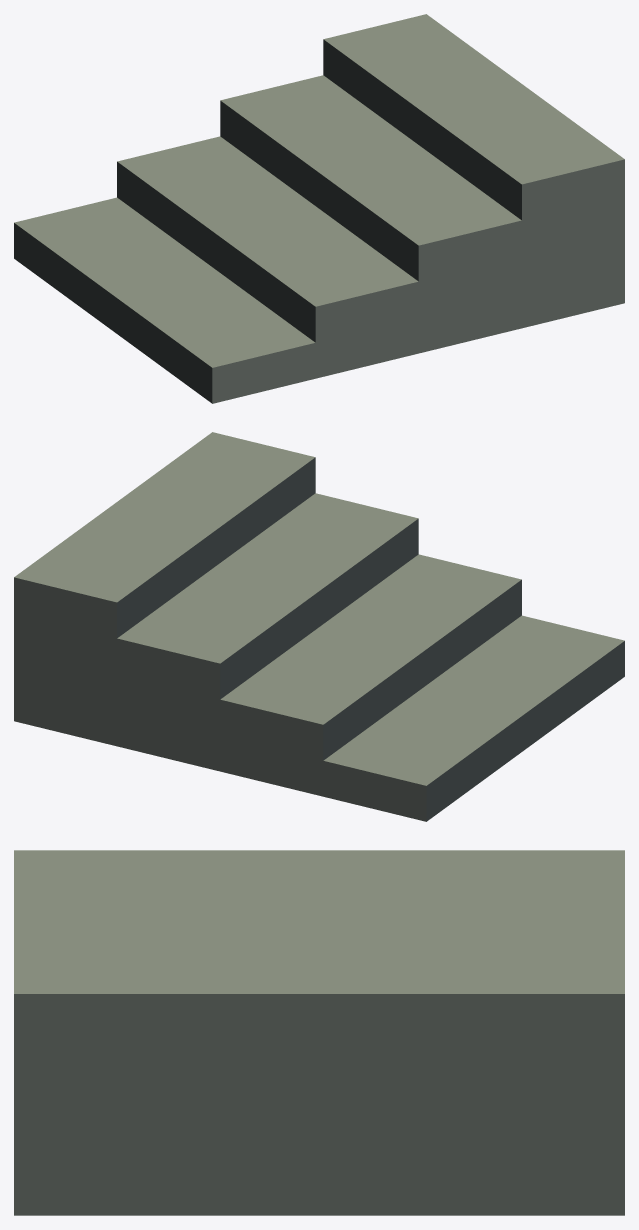
File: TW_STEPS_WIDE4_A_LOD0.glb
3 views of the same model, one above another, from view 1: azimuth 30°, elevation 25°; view 2: azimuth 150°, elevation 25°; view 3: azimuth 270°, elevation 25° (orthographic). The views are drawn at different scales.
Visible parts, largest first — view 1: TW_STEPS_WIDE4_A_LOD0; view 2: TW_STEPS_WIDE4_A_LOD0; view 3: TW_STEPS_WIDE4_A_LOD0.
Part boxes in pixels (<box>): TW_STEPS_WIDE4_A_LOD0: <box>14,14,624,403</box>; TW_STEPS_WIDE4_A_LOD0: <box>14,432,624,821</box>; TW_STEPS_WIDE4_A_LOD0: <box>14,850,624,1215</box>.
Size of the model in its own units: 1.8 by 0.6 by 1.5.
1 material, 1 textured.
